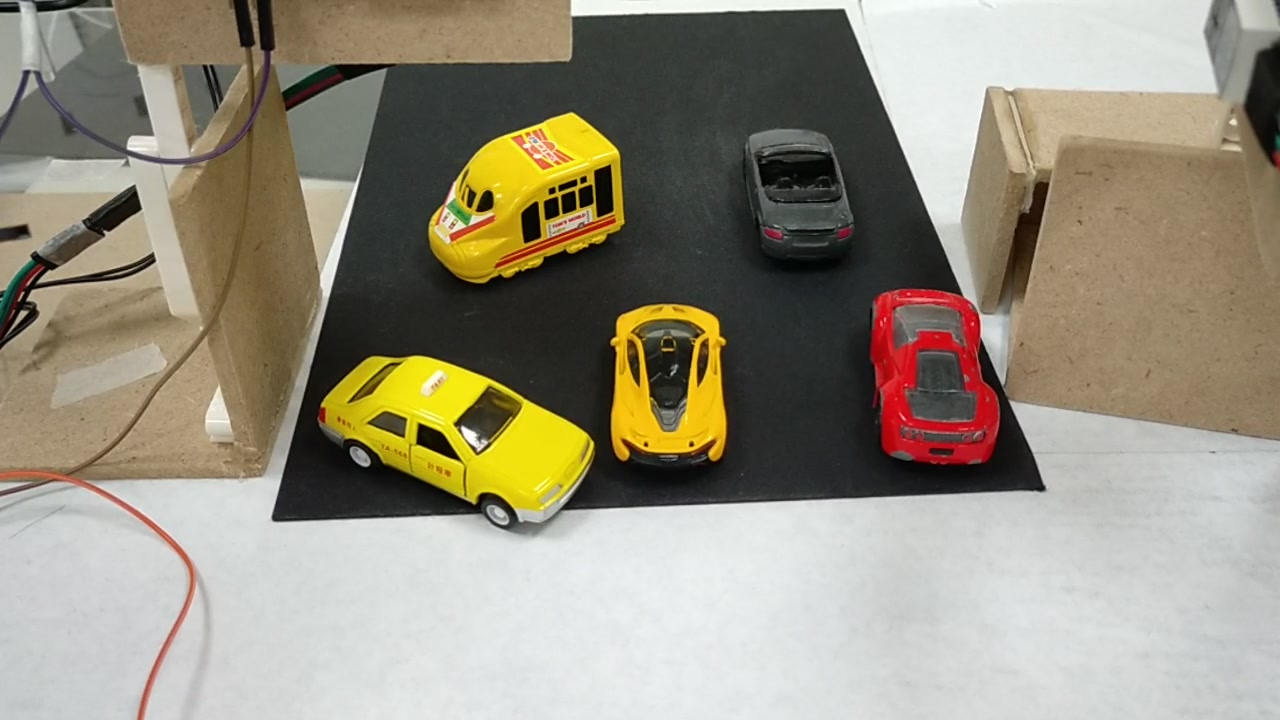car: (308, 351, 598, 556), (874, 291, 1000, 470), (606, 305, 730, 474), (734, 126, 860, 266)
